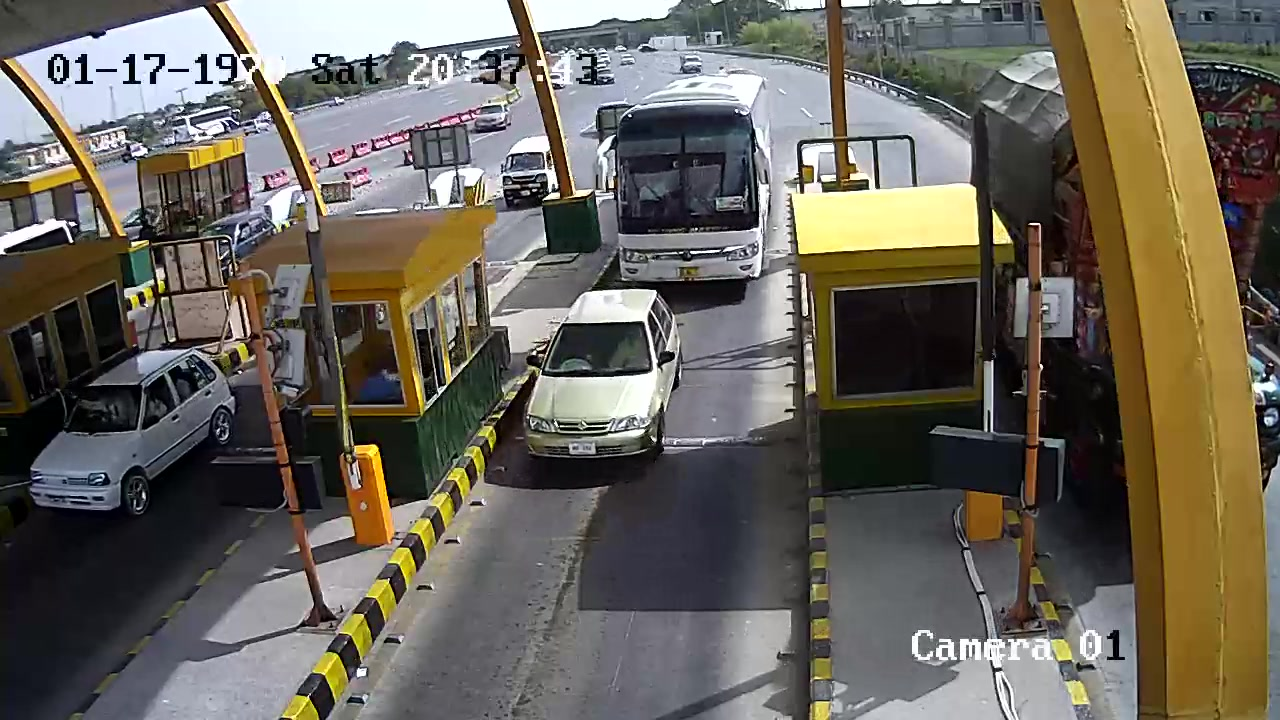F1: (517, 285, 703, 496)
F4: (610, 71, 784, 291)
